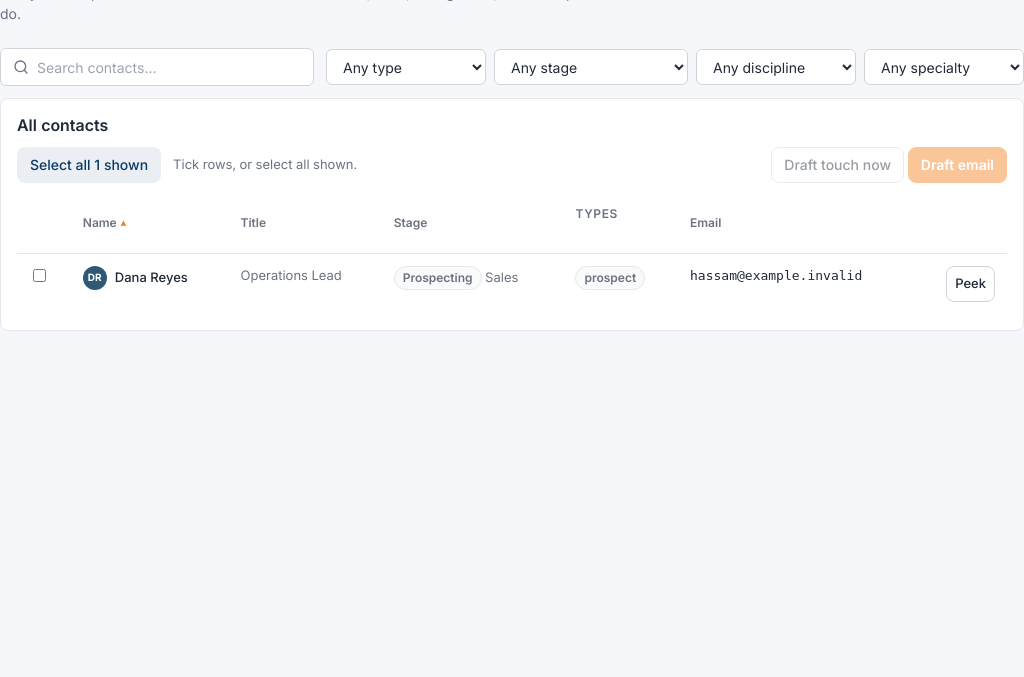
Test: demo findings, 2026-10-22 › T5: Email these contacts previews the email and names a field with nothing
Click the checkbox named "Select Dana Reyes": x=40, y=275 [33,269,46,282]
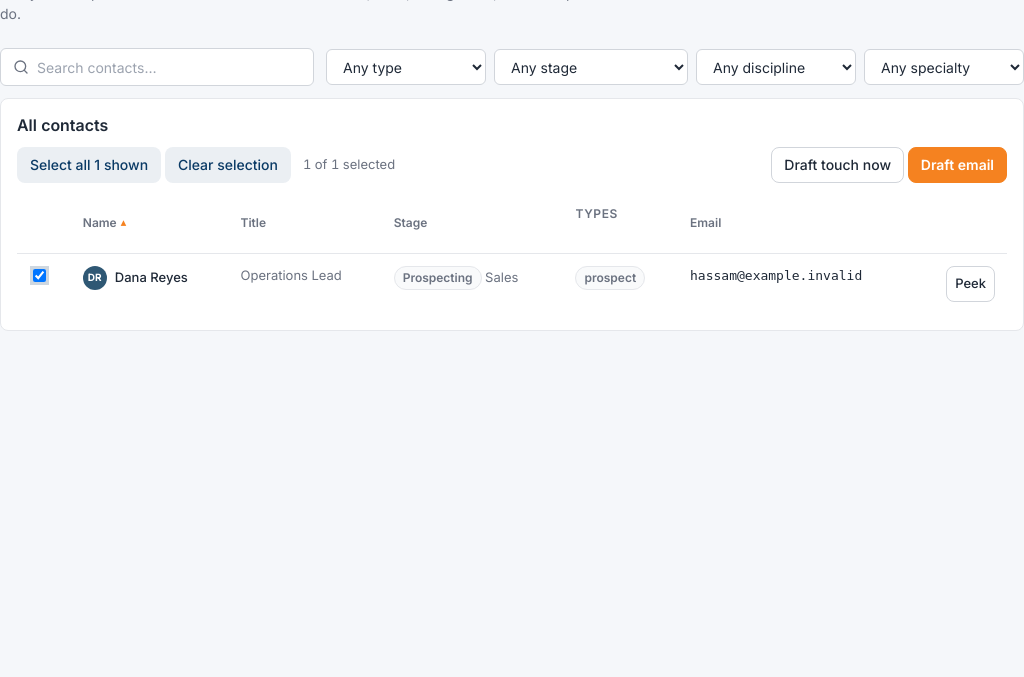
Click the button "Draft email": x=957, y=165 [908,147,1007,183]
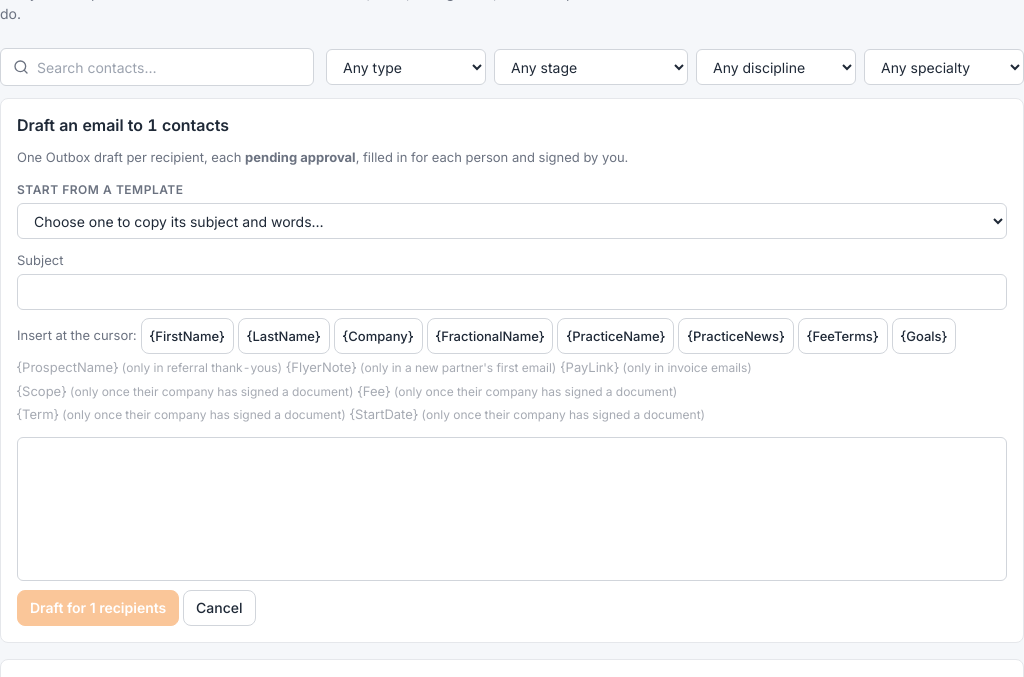
Select "Referral thank-you: won" in the dropdown named "Start from a template": x=512, y=220 [17,202,1007,238]
(page scrolled)
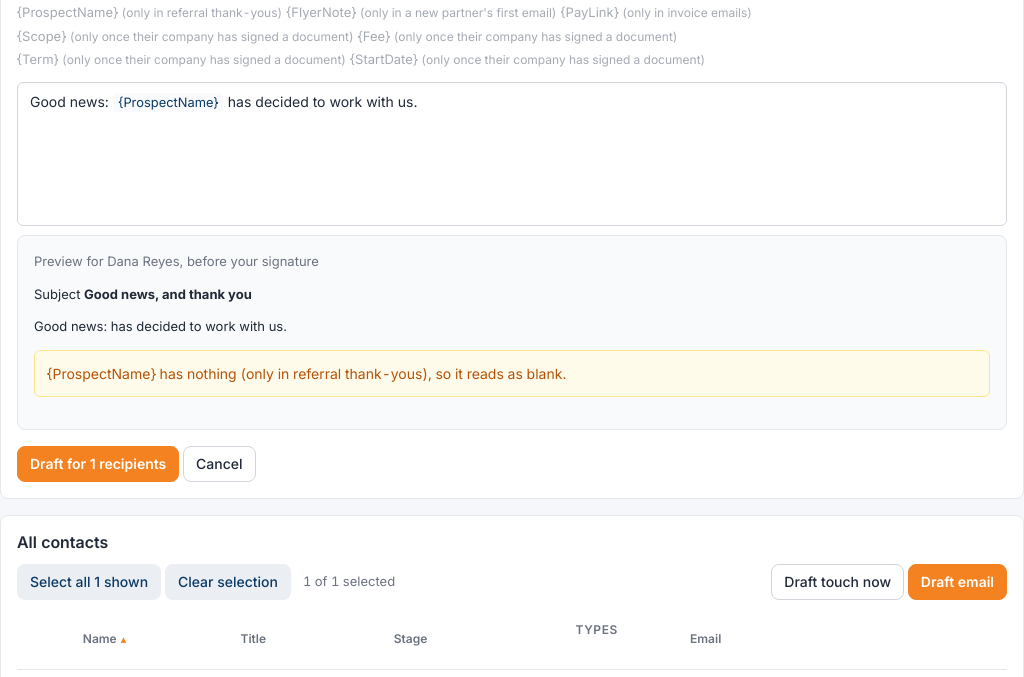
Expected: the element that starts with "{ProspectName}" reads "{ProspectName} has nothing (only in referral thank-yous), so it reads as blank.", [34,350,990,397]
Expected: the element labelled "Preview" shows "has decided to work with us.", [34,318,287,334]
